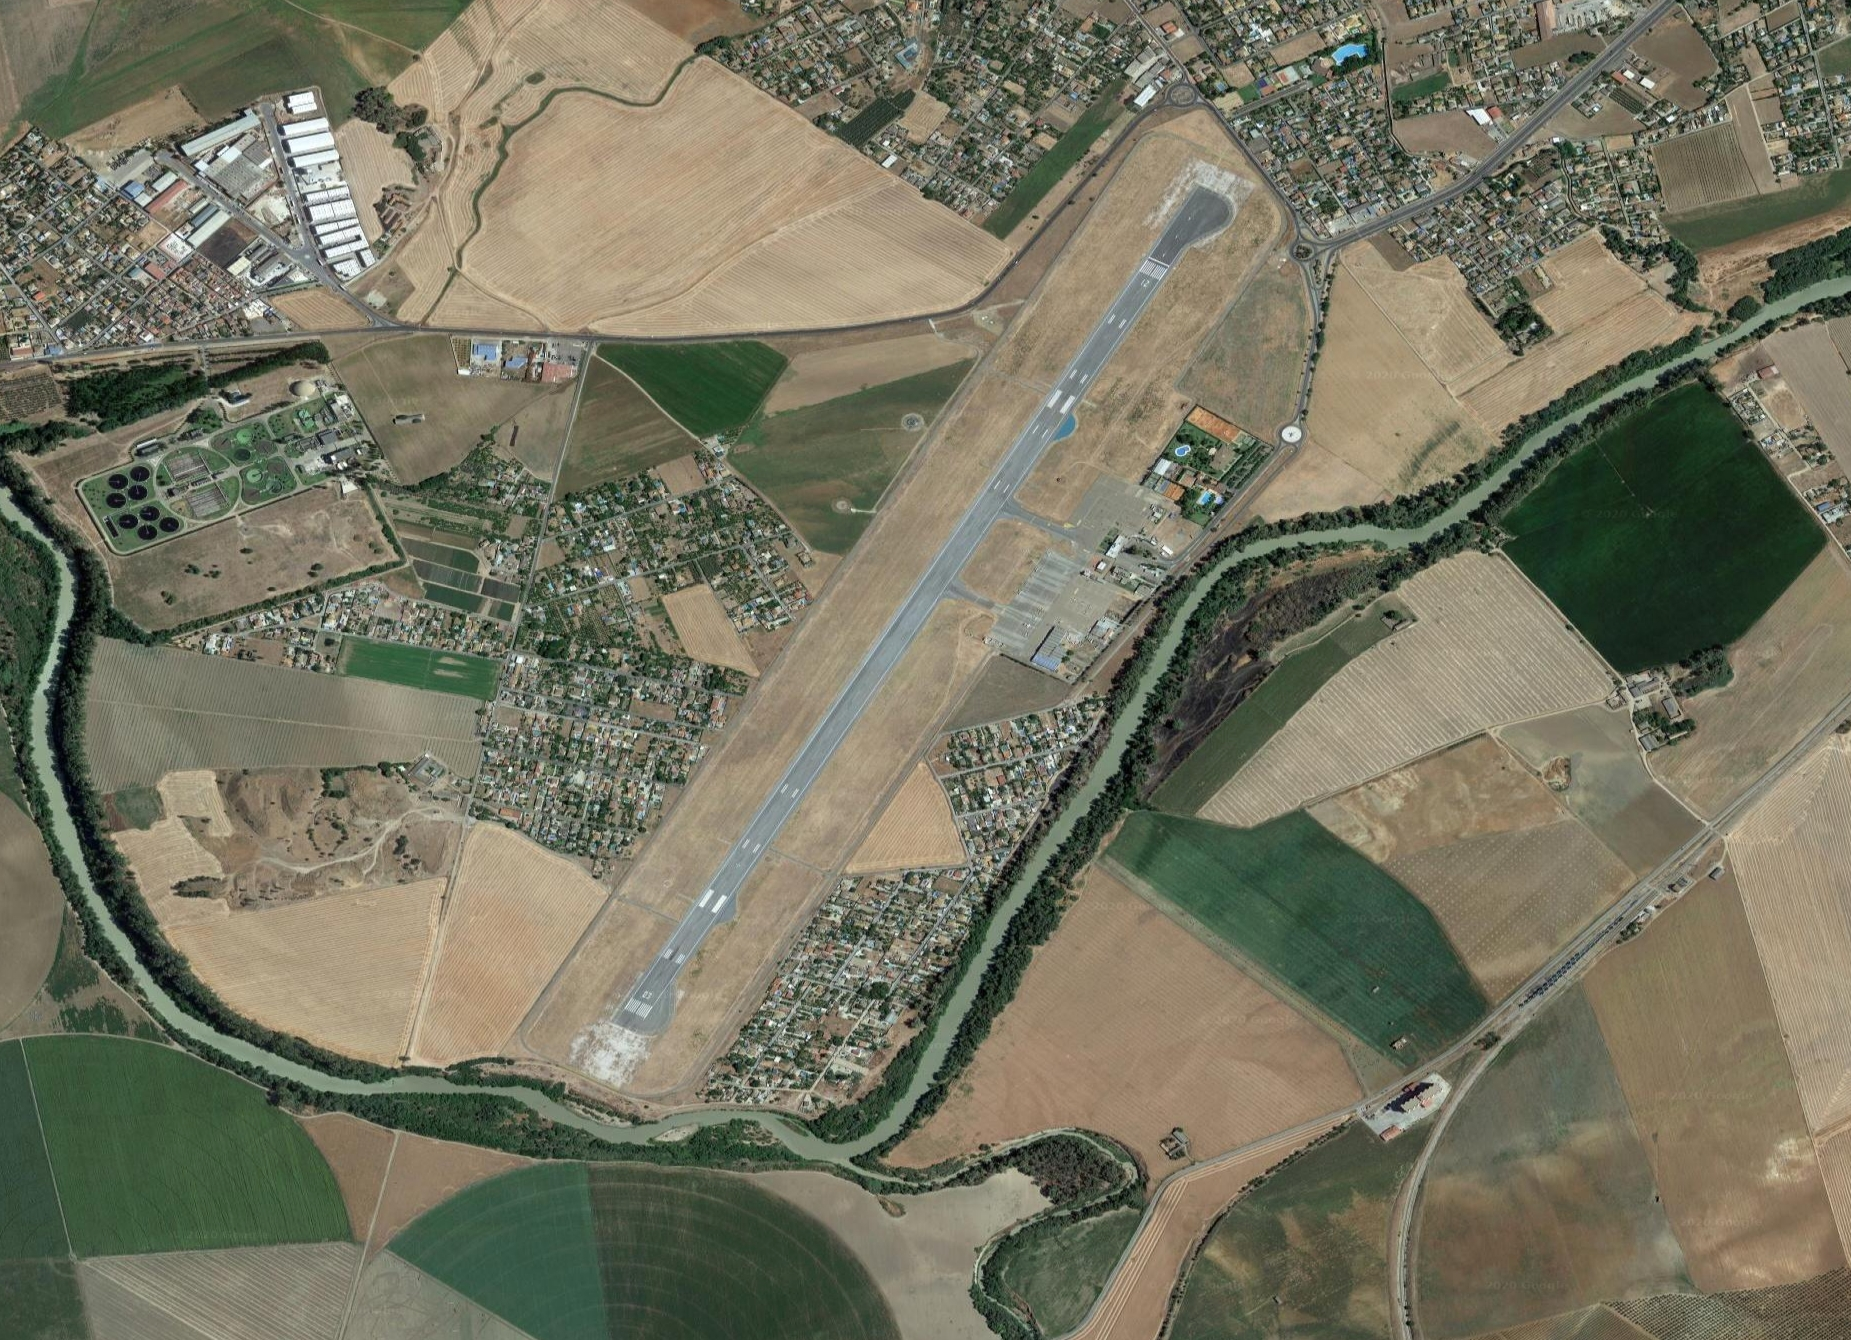airport: (604, 178, 1239, 1044)
